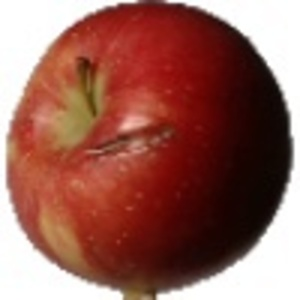maçã braeburn: (1, 1, 294, 292)
